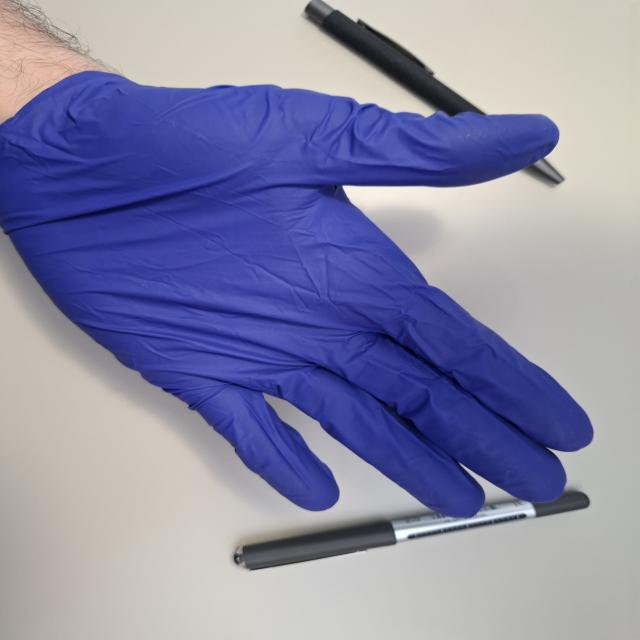glove_on: (2, 70, 600, 522)
